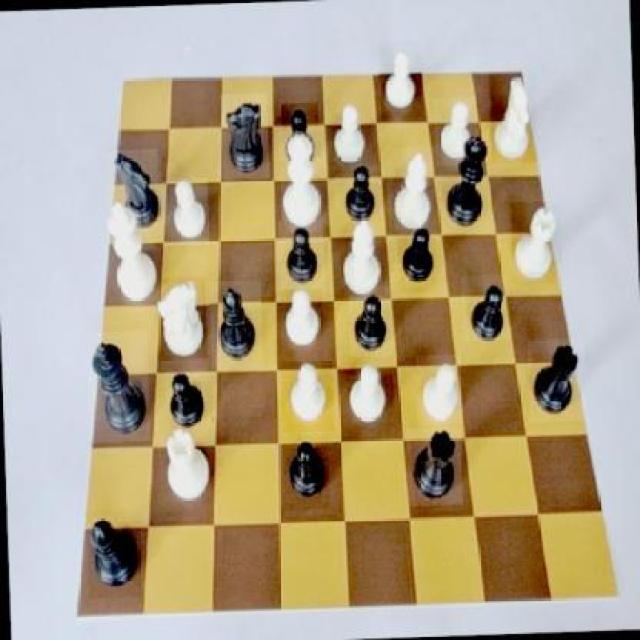bishop: (86, 509, 142, 599), (209, 280, 263, 370)
black-bishop: (86, 331, 151, 443)
black-king: (104, 150, 160, 242), (218, 92, 268, 180)
black-knight: (278, 218, 326, 294), (283, 434, 330, 511), (462, 274, 511, 340), (348, 286, 392, 357), (335, 164, 383, 228), (280, 101, 320, 177), (164, 368, 210, 432), (397, 223, 437, 294)
black-pawn: (437, 130, 492, 232)
black-queen: (528, 338, 588, 422), (406, 426, 462, 506)
black-rook: (386, 146, 439, 239), (337, 210, 385, 298)
white-bishop: (103, 198, 161, 308)
white-king: (488, 68, 537, 163), (156, 277, 208, 360)
white-knight: (278, 360, 334, 433), (338, 360, 394, 432), (271, 290, 323, 362), (377, 40, 423, 119), (160, 179, 209, 246), (417, 356, 463, 426), (434, 96, 478, 166), (329, 98, 368, 174)
white-pawn: (278, 128, 332, 228)
white-queen: (158, 418, 218, 512), (511, 200, 563, 284)
